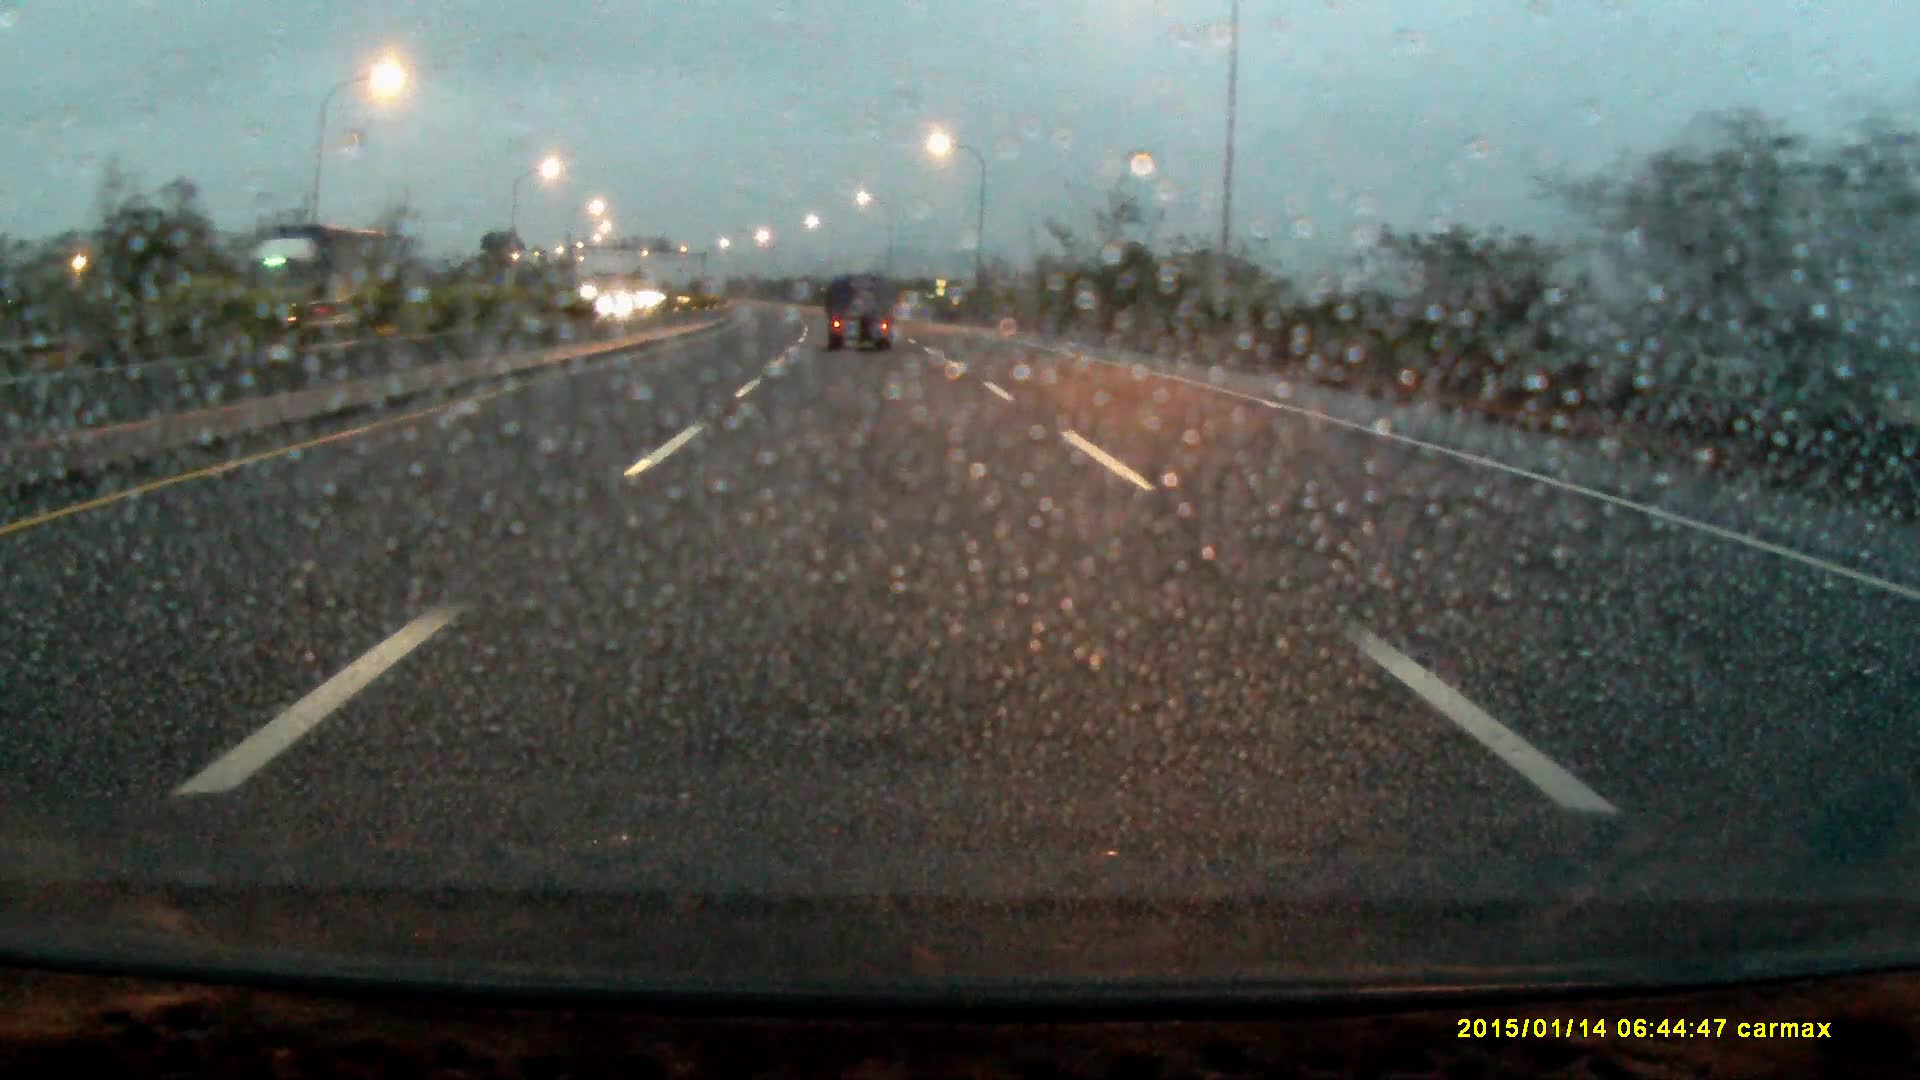vehicle: (215, 223, 386, 344), (825, 276, 899, 349), (604, 291, 646, 313)
